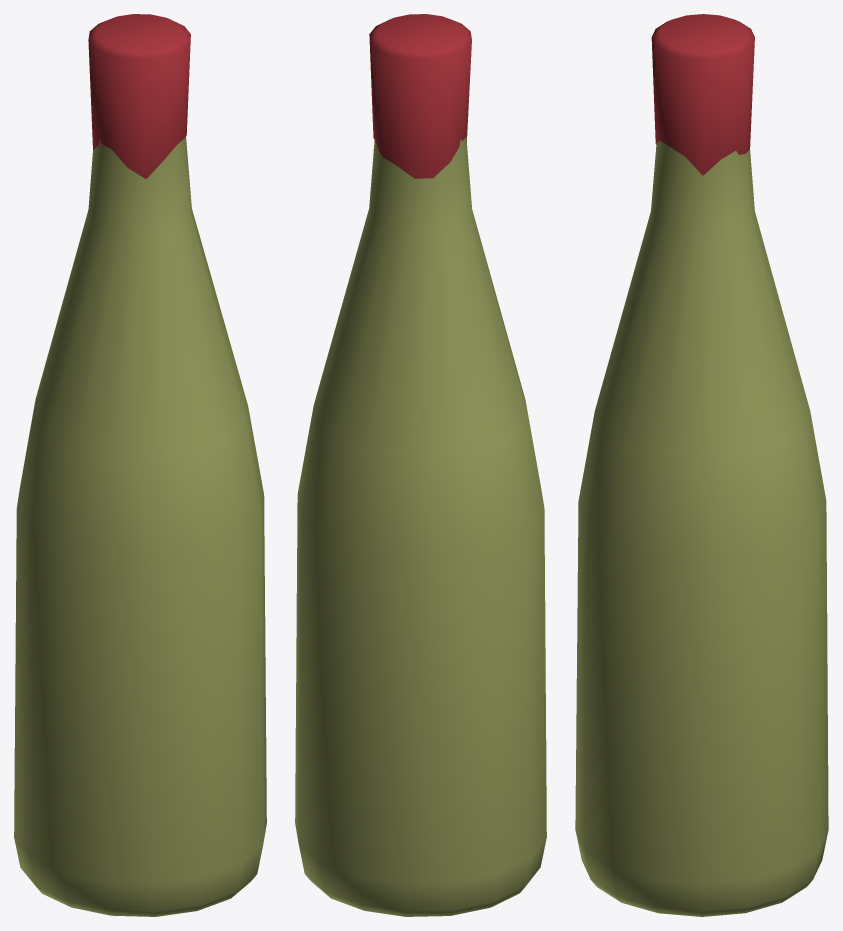
File: bottle_burgundy_lod2.glb
3 views of the same model, side by side, from view 1: azimuth 30°, elevation 25°; view 2: azimuth 150°, elevation 25°; view 3: azimuth 270°, elevation 25° (orthographic).
Visible parts, largest first — view 1: Glass, Cap; view 2: Glass, Cap; view 3: Glass, Cap.
Part boxes in pixels (bbox=[...]): Glass: bbox=[14, 137, 266, 916]; Cap: bbox=[88, 14, 190, 178]; Glass: bbox=[295, 137, 546, 916]; Cap: bbox=[369, 14, 471, 178]; Glass: bbox=[575, 141, 828, 916]; Cap: bbox=[651, 14, 754, 175].
Bounding box in the file's own units: 0.0818 × 0.2977 × 0.0814.
